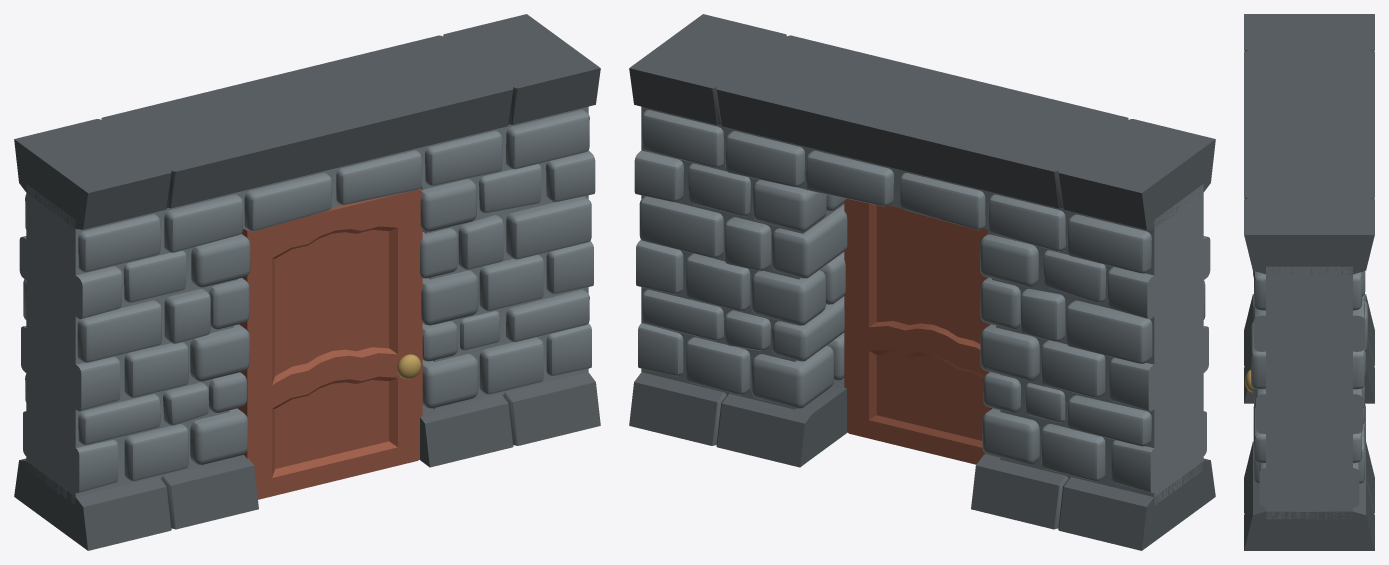
File: Door.fbx
3 renders of one model, left to right at view 1: azimuth 30°, elevation 25°; view 2: azimuth 150°, elevation 25°; view 3: azimuth 270°, elevation 25°, orthographic. The views are drawn at different scales.
Parts seen in each view (by area): view 1: entrance, door; view 2: entrance, door; view 3: entrance.
Boxes of the visible parts, x1,y1,x2,y2 form: entrance: (14, 14, 600, 550); door: (238, 189, 422, 499); entrance: (629, 14, 1215, 550); door: (844, 198, 991, 464); entrance: (1244, 14, 1374, 550).
Bounding box in the file's own units: 6 × 4 × 1.5.
